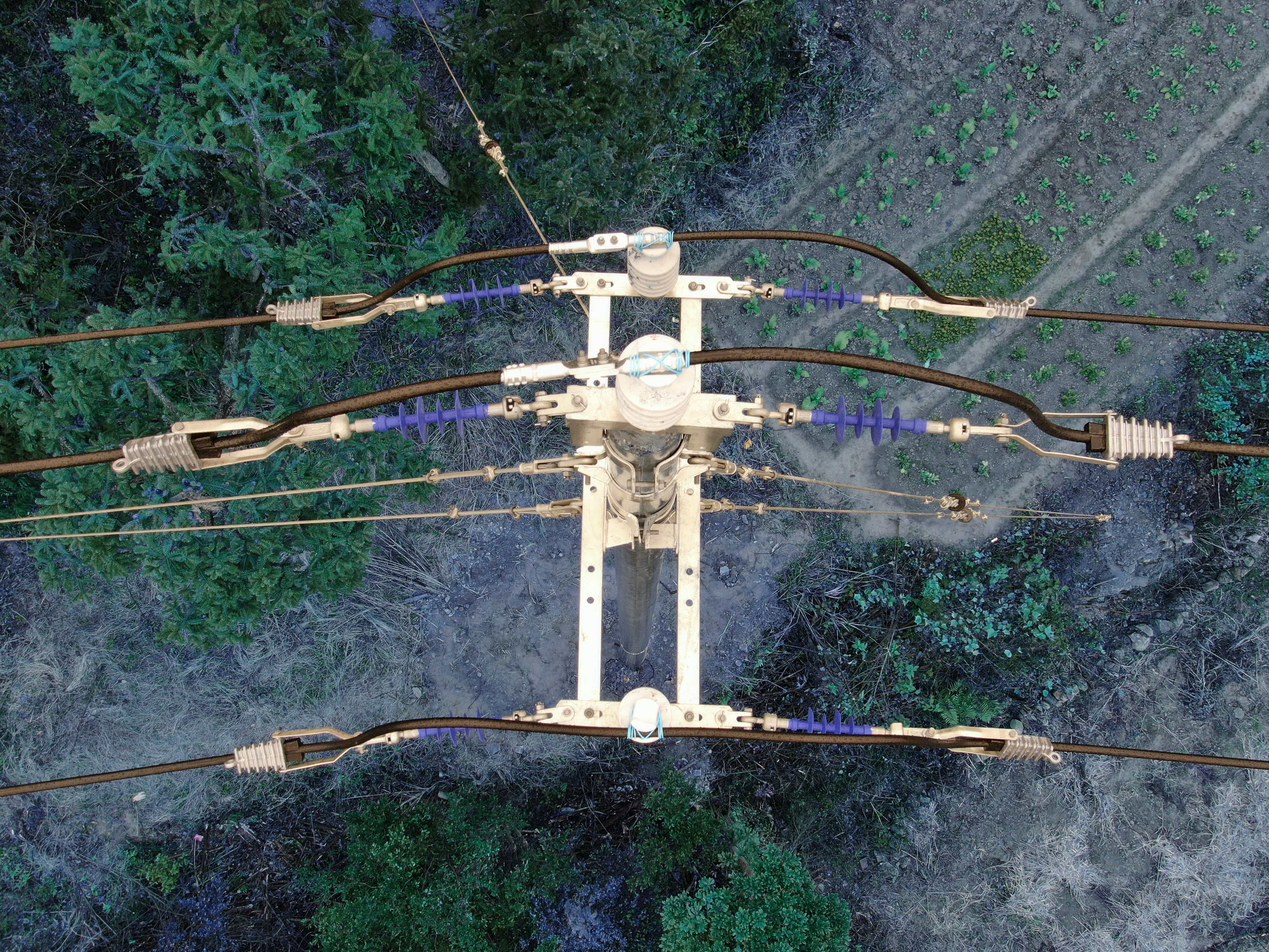severe_soiling_no_discharge_whole: (623, 223, 684, 302)
